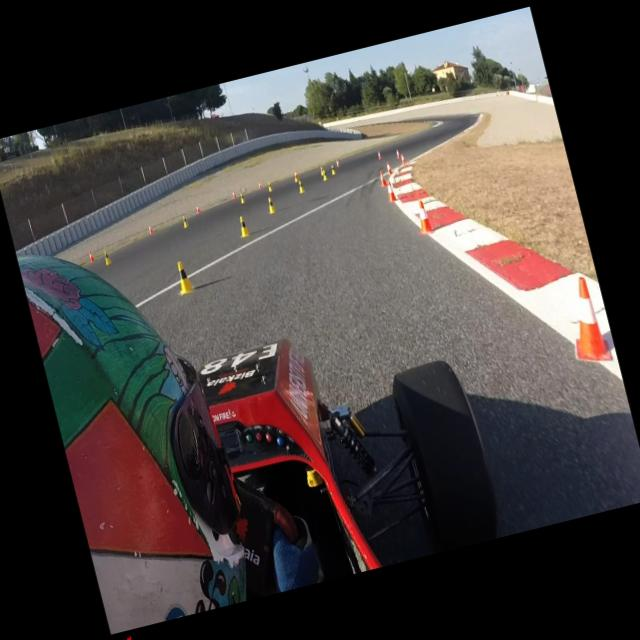orange_cone: (558, 275, 612, 367), (412, 198, 434, 234), (384, 180, 396, 202), (377, 169, 388, 186), (384, 161, 392, 174), (399, 152, 406, 166), (87, 249, 94, 262), (394, 146, 401, 158), (147, 222, 152, 234), (195, 204, 200, 213), (376, 150, 381, 159), (232, 190, 236, 198), (336, 159, 340, 166), (294, 170, 298, 177), (258, 182, 262, 188)
yellow_cone: (172, 259, 194, 295), (236, 215, 248, 237), (264, 196, 276, 213), (102, 250, 111, 266), (296, 180, 305, 192), (180, 215, 188, 228), (238, 191, 245, 204), (321, 168, 328, 180), (330, 164, 336, 174), (266, 182, 272, 192), (292, 173, 298, 182), (319, 166, 324, 174)
